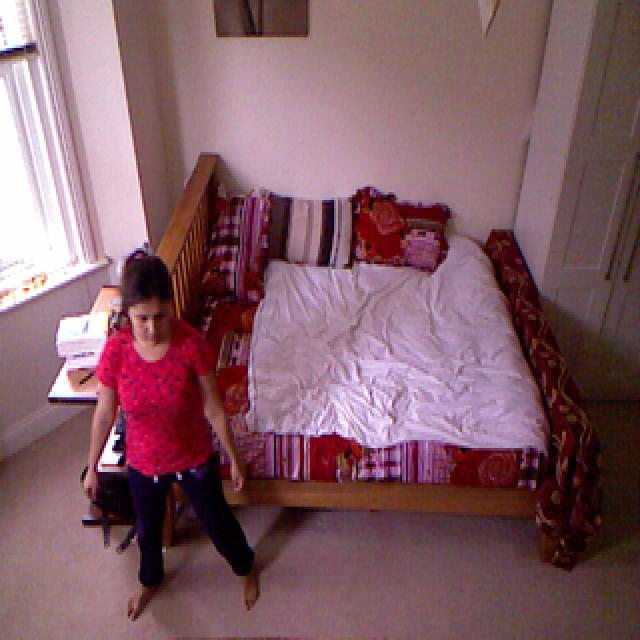standing: (84, 248, 262, 620)
